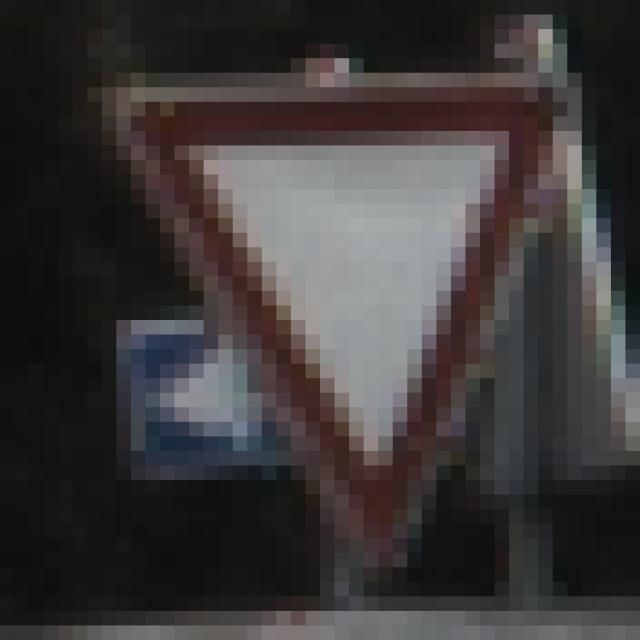Give Way: (89, 74, 569, 568)
